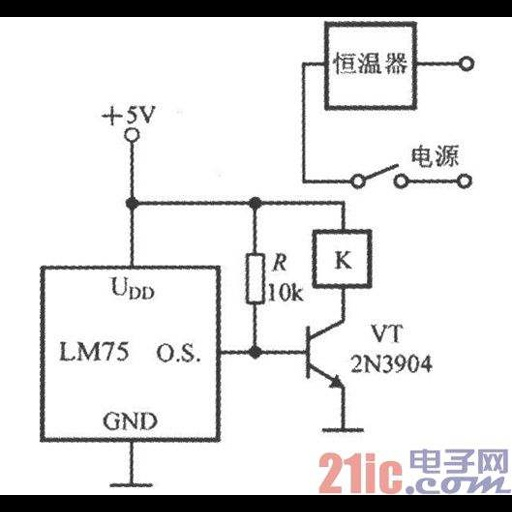firstresistance: (236, 247, 268, 307)
npn: (299, 318, 350, 394)
